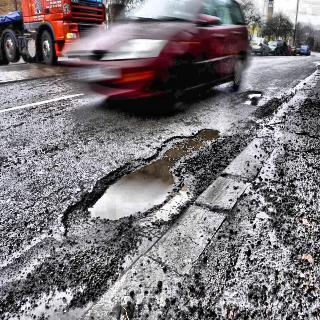pothole: (72, 121, 236, 261), (226, 83, 296, 111)
